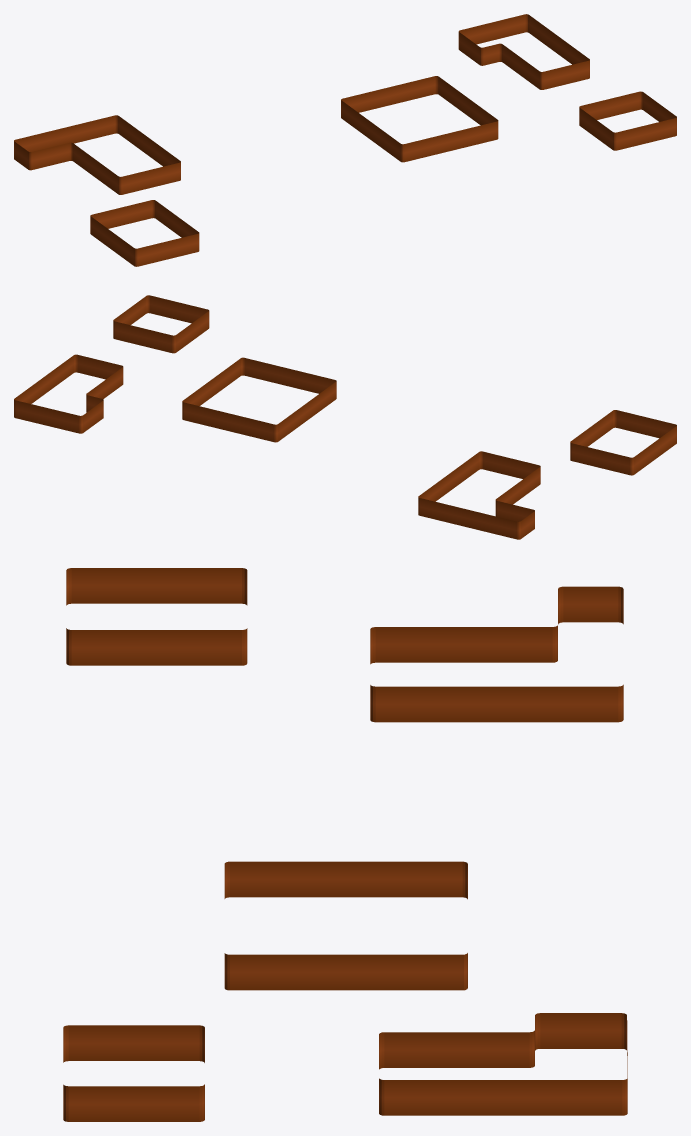
File: grass_hill.fbx
3 renders of one model, top to bottom at view 1: azimuth 30°, elevation 25°; view 2: azimuth 150°, elevation 25°; view 3: azimuth 270°, elevation 25°, orthographic. The views are drawn at different scales.
Visible parts, largest first — view 1: grass_hill; view 2: grass_hill; view 3: grass_hill.
Boxes of the visible parts, bbox=[...] form: grass_hill: bbox=[14, 14, 676, 266]; grass_hill: bbox=[14, 295, 676, 539]; grass_hill: bbox=[63, 568, 627, 1121].
Bounding box in the file's own units: 3265 × 105 × 1503.
